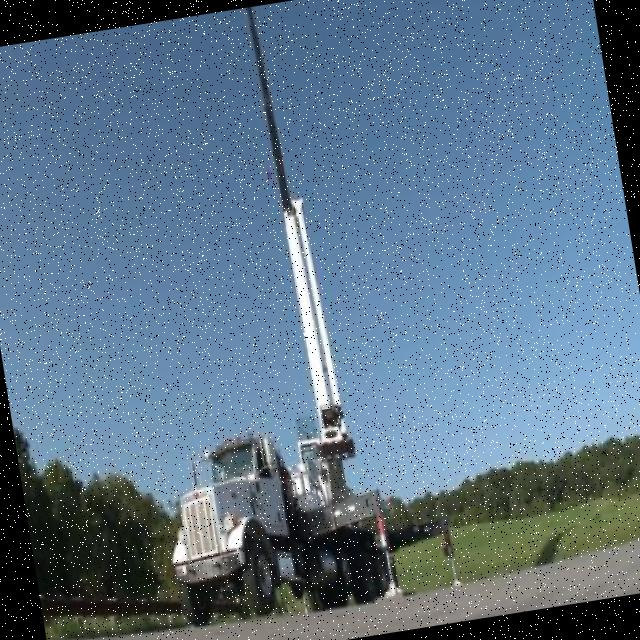Mobile Crane: (87, 0, 461, 624)
